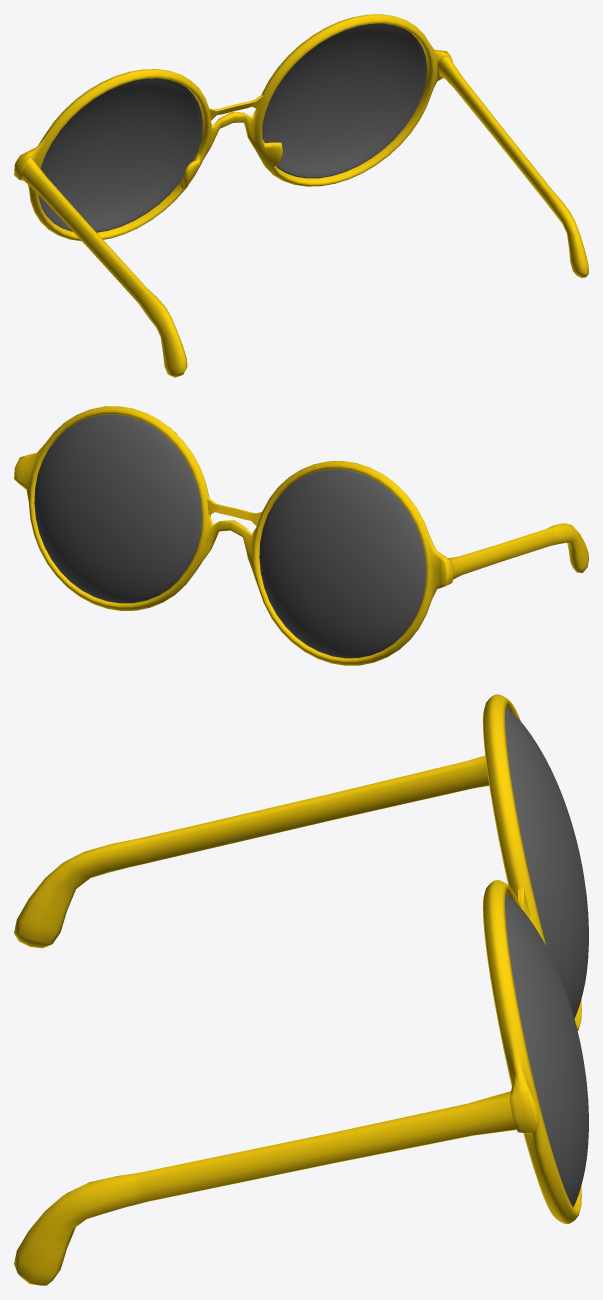
File: Sunglasses.fbx
The picture shows the model from 3 angles, top to bottom: view 1: azimuth 30°, elevation 25°; view 2: azimuth 150°, elevation 25°; view 3: azimuth 270°, elevation 25°; orthographic projection. The views are drawn at different scales.
Visible parts, largest first — view 1: Glasses; view 2: Glasses; view 3: Glasses.
Part boxes in pixels (x1,y1,x2,y2): Glasses: (14,14,588,377); Glasses: (14,406,588,665); Glasses: (14,694,588,1285).
Bounding box in the file's own units: 2.89 × 1.17 × 1.95.
